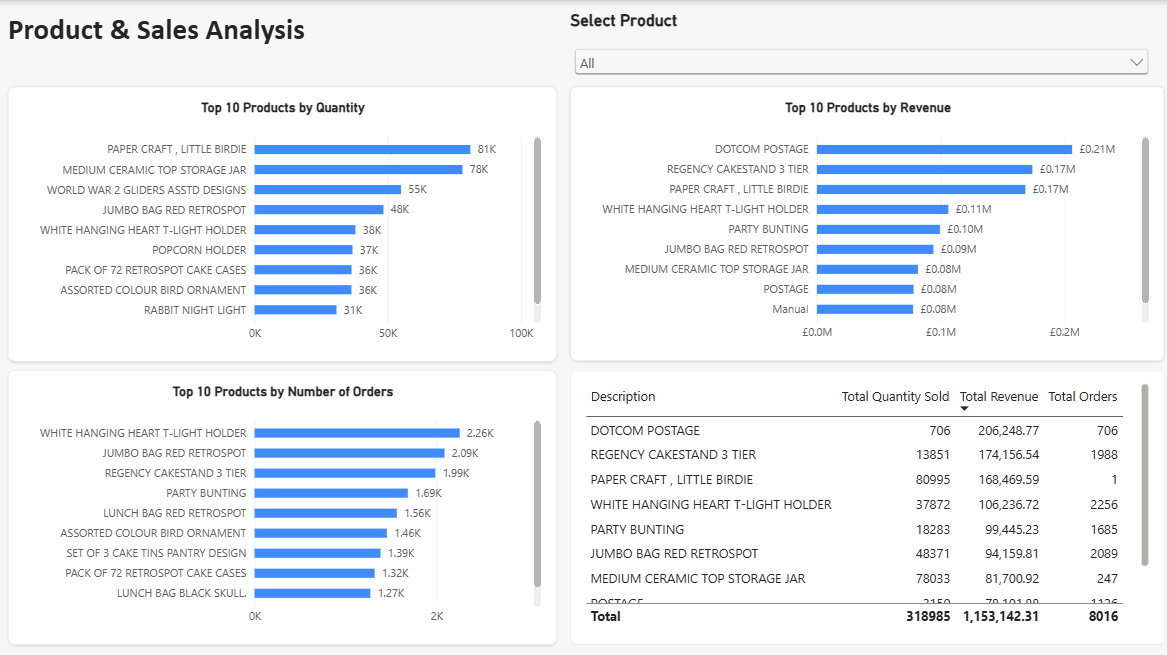

The page's visual inventory and layout, read from the dashboard file:
{"tool":"powerbi","page":{"name":"Product & Sales Analysis","canvas":[1280,720],"ordinal":2},"visuals":[{"type":"clusteredBarChart","title":"Top 10 Products by Quantity ","fields":{"Category":["online_retail_cleaned.Description"],"Y":["online_retail_cleaned.Total Quantity Sold"]},"box":[8.6,94.6,600,300],"z":0},{"type":"clusteredBarChart","title":"Top 10 Products by Number of Orders","fields":{"Category":["online_retail_cleaned.Description"],"Y":["online_retail_cleaned.Total Orders"]},"box":[8.6,404.3,600,300],"z":1000},{"type":"tableEx","fields":{"Values":["online_retail_cleaned.Description","online_retail_cleaned.Total Quantity Sold","online_retail_cleaned.Total Revenue","online_retail_cleaned.Total Orders"]},"box":[622.8,404.3,650,299.4],"z":2000},{"type":"clusteredBarChart","title":"Top 10 Products by  Revenue","fields":{"Category":["online_retail_cleaned.Description"],"Y":["online_retail_cleaned.Total Revenue"]},"box":[622.8,94.6,650,299.4],"z":3000},{"type":"slicer","title":"Select Product","fields":{"Values":["online_retail_cleaned.Description"]},"box":[622.8,12,636.6,82.6],"z":3001},{"type":"textbox","box":[8.6,12,600.5,65.4],"z":3002}]}

Visuals, with their boxes in screenshot pixels (x1, y1, x2, y2), scaled from the page's 1280x720 canvas onto the 1167x655 screenshot:
"Top 10 Products by Quantity " clusteredBarChart: select_region(8, 86, 555, 359)
"Top 10 Products by Number of Orders" clusteredBarChart: select_region(8, 368, 555, 641)
tableEx - online_retail_cleaned.Description x online_retail_cleaned.Total Quantity Sold: select_region(568, 368, 1160, 640)
"Top 10 Products by  Revenue" clusteredBarChart: select_region(568, 86, 1160, 358)
"Select Product" slicer: select_region(568, 11, 1148, 86)
textbox: select_region(8, 11, 555, 70)
